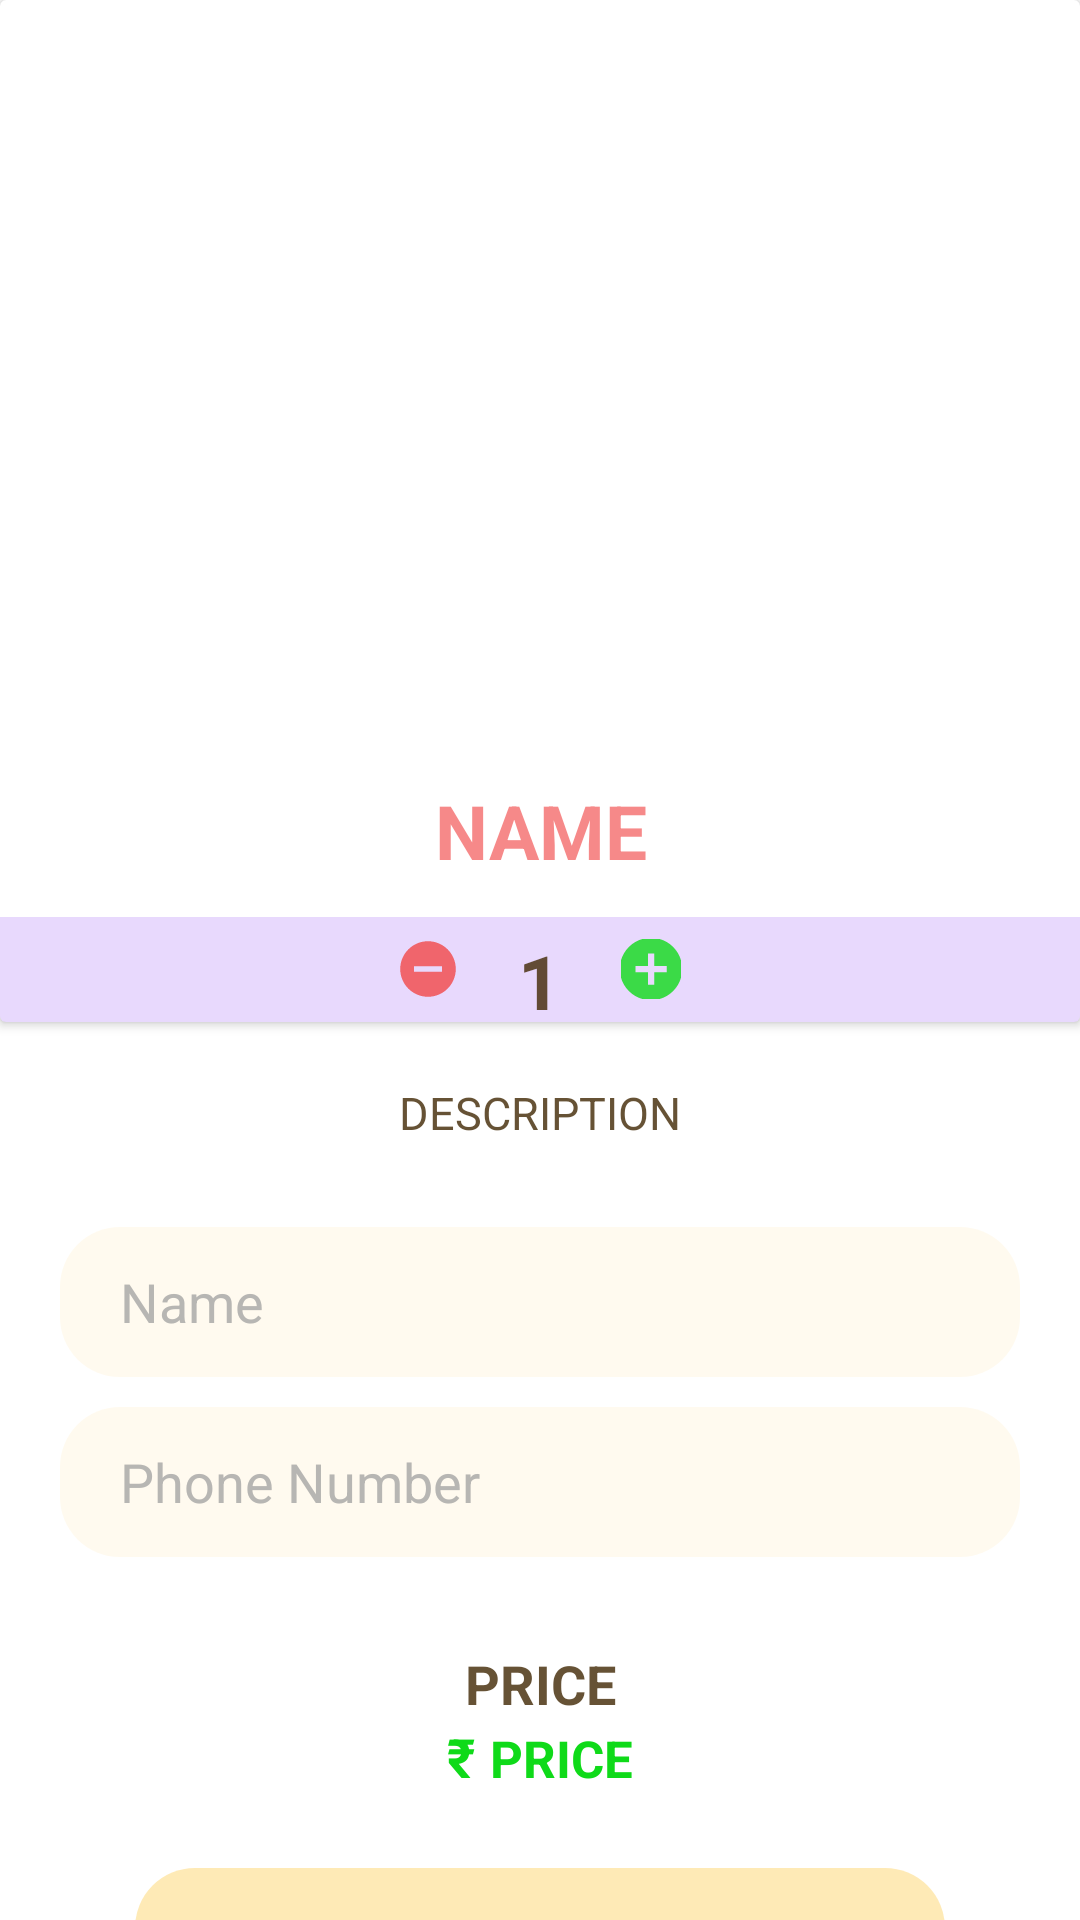

Named icons in this screenshot (1080 × 1920) and their centers, (x,y):
text add one: (651,969)
text remove one: (428,969)
